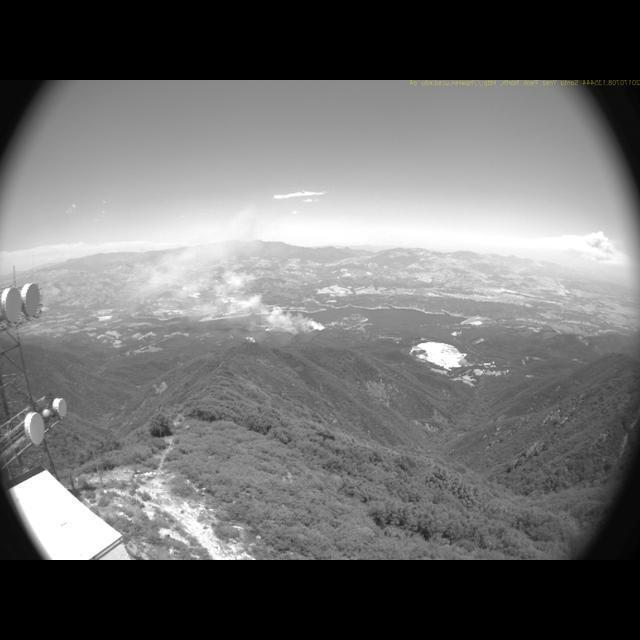Smoke: (120, 201, 328, 338)
